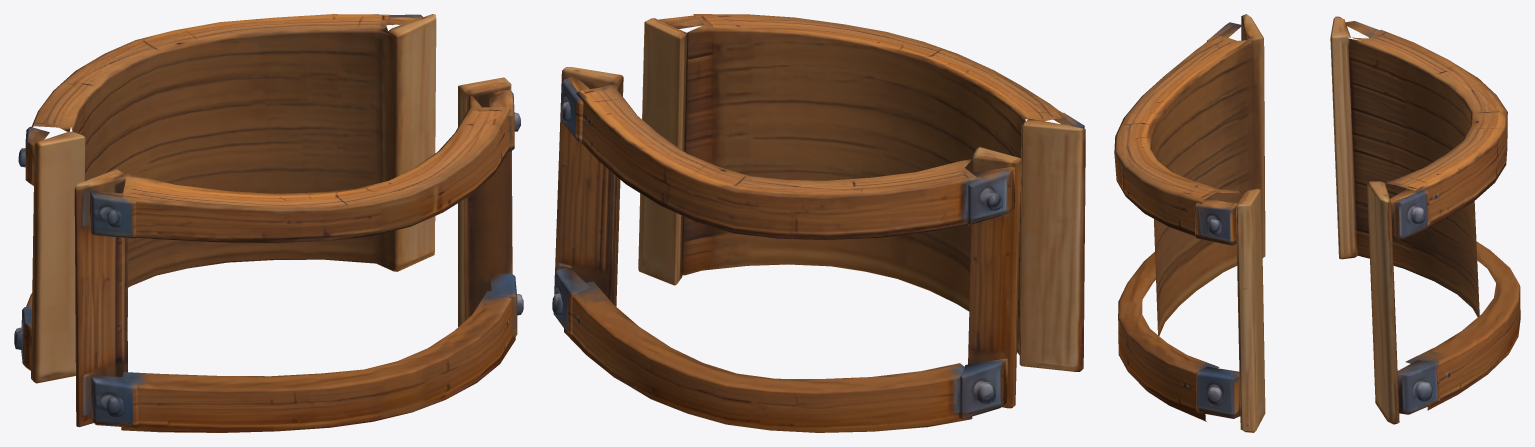
Rendered from cabin_corners.glb.
3 renders of one model, left to right at view 1: azimuth 30°, elevation 25°; view 2: azimuth 150°, elevation 25°; view 3: azimuth 270°, elevation 25°, orthographic. The views are drawn at different scales.
Parts seen in each view (by area): view 1: corner_b, corner_a; view 2: corner_a, corner_b; view 3: corner_b, corner_a.
Part boxes in pixels (x1,y1,x2,y2): corner_b: [14, 14, 436, 383]; corner_a: [74, 77, 523, 432]; corner_a: [638, 14, 1085, 371]; corner_b: [552, 67, 1021, 432]; corner_b: [1330, 16, 1520, 424]; corner_a: [1114, 14, 1265, 432].
Bounding box in the file's own units: 4.41 × 2.42 × 3.81.
Materials: 1 (1 with a texture image).
